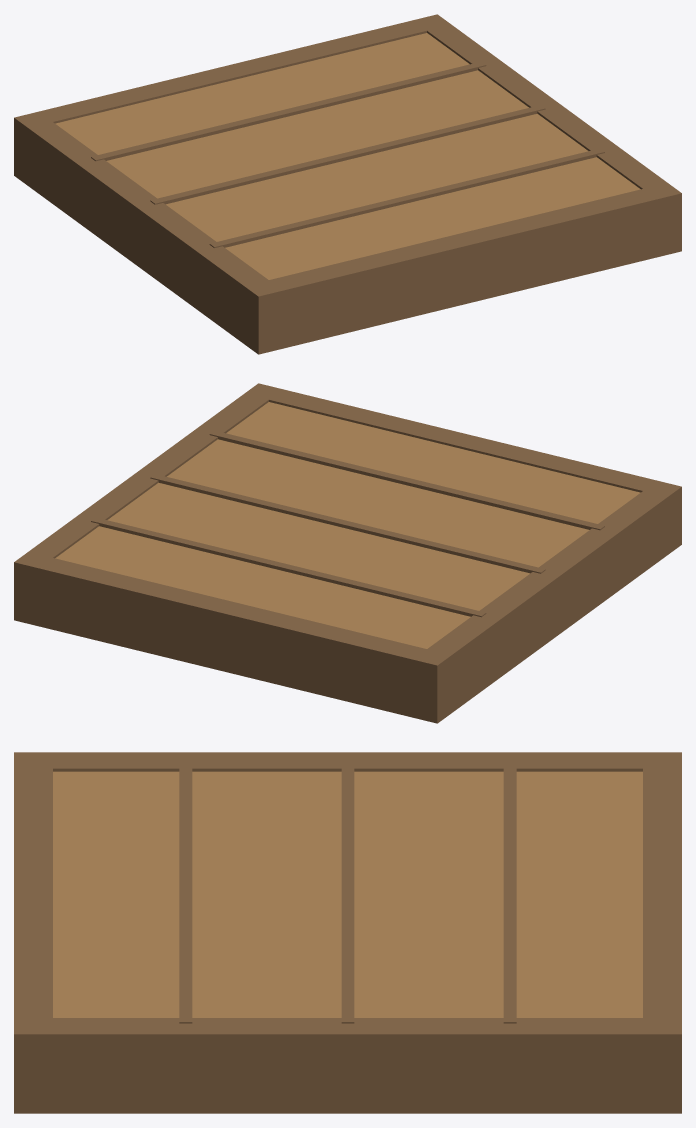
The model's file is foundation.glb.
3 renders of one model, top to bottom at view 1: azimuth 30°, elevation 25°; view 2: azimuth 150°, elevation 25°; view 3: azimuth 270°, elevation 25°, orthographic. The views are drawn at different scales.
Parts seen in each view (by area): view 1: M_b1, M_b0; view 2: M_b1, M_b0; view 3: M_b0, M_b1.
Boxes of the visible parts, bbox=[...] form: M_b1: bbox=[14, 14, 681, 354]; M_b0: bbox=[55, 33, 640, 279]; M_b1: bbox=[14, 383, 681, 723]; M_b0: bbox=[55, 402, 640, 648]; M_b0: bbox=[53, 771, 642, 1017]; M_b1: bbox=[14, 752, 681, 1113].
Size of the model in its own units: 2.06 by 0.275 by 2.06.
